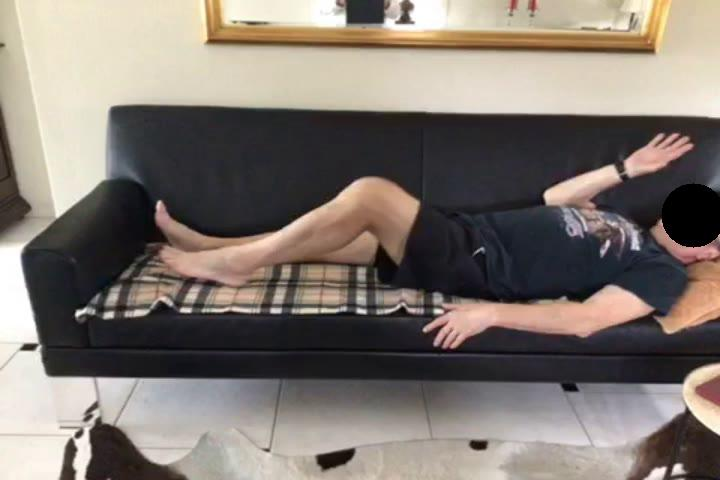lower_body: (154, 174, 509, 302)
